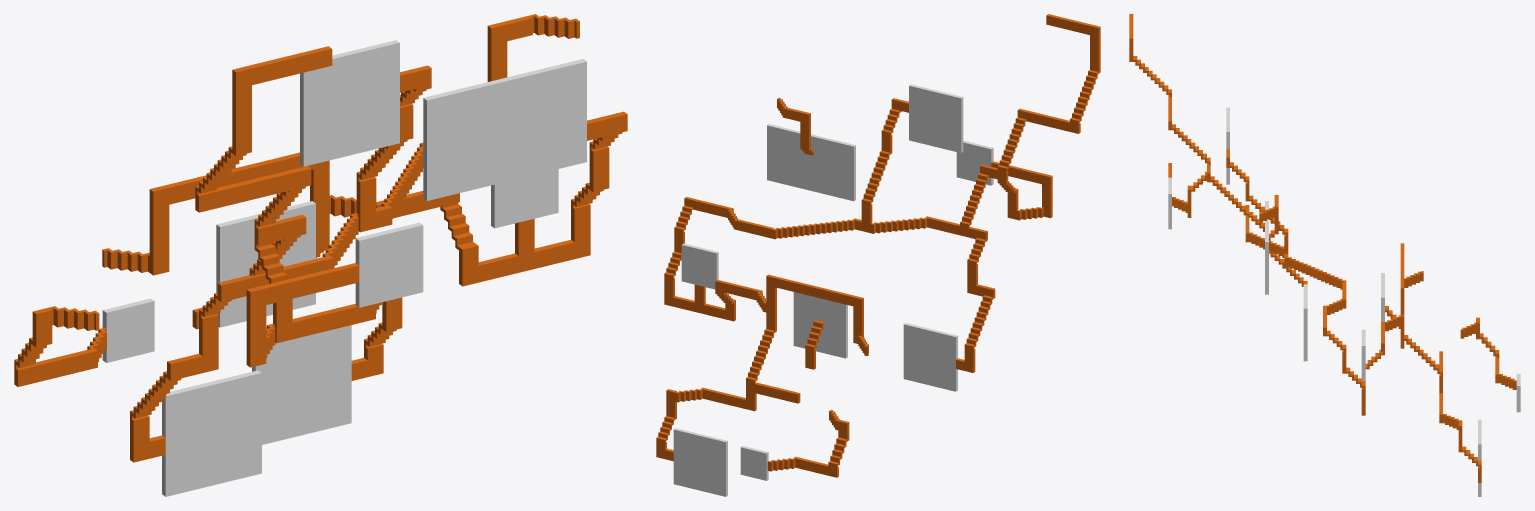
Rendered from stage2-2.fbx.
The picture shows the model from 3 angles, left to right: view 1: azimuth 30°, elevation 25°; view 2: azimuth 150°, elevation 25°; view 3: azimuth 270°, elevation 25°; orthographic projection. The views are drawn at different scales.
Parts seen in each view (by area): view 1: passage1, slab2, slab5, slab1, slab7, slab3, slab4, slab6, slab8; view 2: passage1, slab2, slab1, slab7, slab5, slab4, slab6, slab3, slab8; view 3: passage1.
Boxes of the visible parts, <box> form: passage1: <box>14,14,627,462</box>; slab2: <box>423,59,586,200</box>; slab5: <box>162,370,261,496</box>; slab1: <box>300,40,399,166</box>; slab7: <box>252,325,351,444</box>; slab3: <box>355,222,423,307</box>; slab4: <box>216,201,315,327</box>; slab6: <box>491,169,558,228</box>; slab8: <box>102,298,154,362</box>; passage1: <box>656,14,1100,477</box>; slab2: <box>767,124,855,201</box>; slab1: <box>909,84,963,152</box>; slab7: <box>673,428,727,496</box>; slab5: <box>903,323,957,391</box>; slab4: <box>793,292,847,358</box>; slab6: <box>681,243,718,289</box>; slab3: <box>956,140,993,185</box>; slab8: <box>740,446,768,480</box>; passage1: <box>1129,14,1516,482</box>.
Size of the model in its own units: 1800 by 2100 by 2020.
